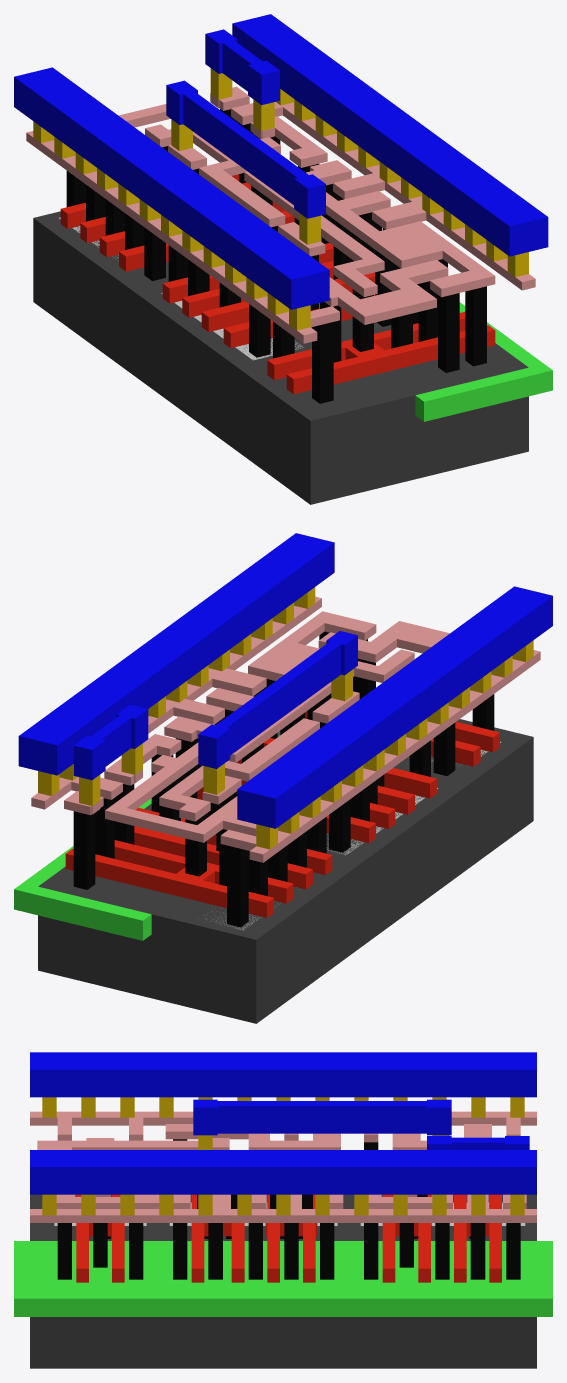
The model's file is sky130_fd_sc_hd__xor2_2.obj.
3 views of the same model, one above another, from view 1: azimuth 30°, elevation 25°; view 2: azimuth 150°, elevation 25°; view 3: azimuth 270°, elevation 25° (orthographic). The views are drawn at different scales.
Parts seen in each view (by area): view 1: subs, metal1, li, licon, poly, mcon, nwell; view 2: metal1, subs, li, licon, poly, mcon, nwell; view 3: metal1, subs, nwell, li, licon, poly, mcon.
Boxes of the visible parts, x1,y1,x2,y2 form: subs: (33, 211, 528, 504); metal1: (14, 14, 548, 309); li: (26, 86, 535, 343); licon: (66, 109, 486, 403); poly: (60, 174, 495, 394); mcon: (33, 68, 528, 330); nwell: (415, 302, 552, 421); metal1: (18, 533, 552, 828); subs: (38, 719, 533, 1023); li: (31, 596, 540, 862); licon: (73, 631, 494, 927); poly: (65, 711, 499, 917); mcon: (38, 587, 533, 849); nwell: (14, 734, 279, 940); metal1: (30, 1052, 536, 1194); subs: (30, 1194, 536, 1368); nwell: (14, 1241, 552, 1316); li: (30, 1111, 536, 1222); licon: (57, 1139, 520, 1279); poly: (76, 1194, 501, 1282); mcon: (42, 1097, 524, 1215).
Size of the model in its own units: 3.2 by 2.74 by 6.36.
